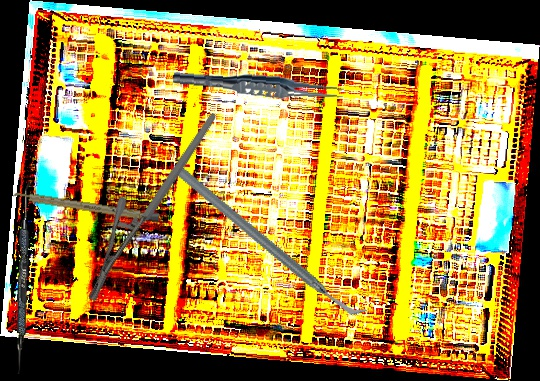Chopper: (173, 121, 369, 362)
Needle Holder: (43, 111, 263, 306)
Scalpel Handle: (12, 190, 160, 223)
Spatula Surgical: (15, 180, 31, 375)
Tissue Forceps: (172, 68, 345, 103)
